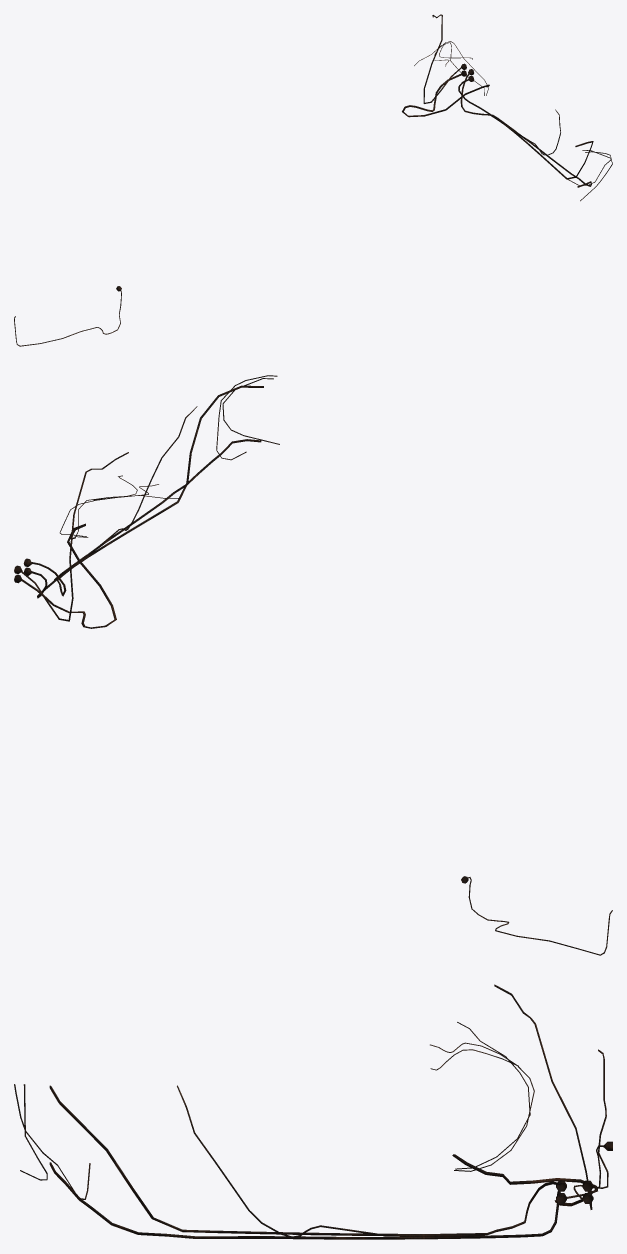
Rendered from cables.FBX.
The picture shows the model from 3 angles, top to bottom: view 1: azimuth 30°, elevation 25°; view 2: azimuth 150°, elevation 25°; view 3: azimuth 270°, elevation 25°; orthographic projection. The views are drawn at different scales.
Parts seen in each view (by area): view 1: cables; view 2: cables; view 3: cables.
Part boxes in pixels (x1,y1,x2,y2): cables: (14,14,612,346); cables: (14,375,612,955); cables: (14,984,612,1239).
Bounding box in the file's own units: 4.07 × 2.27 × 2.59.
